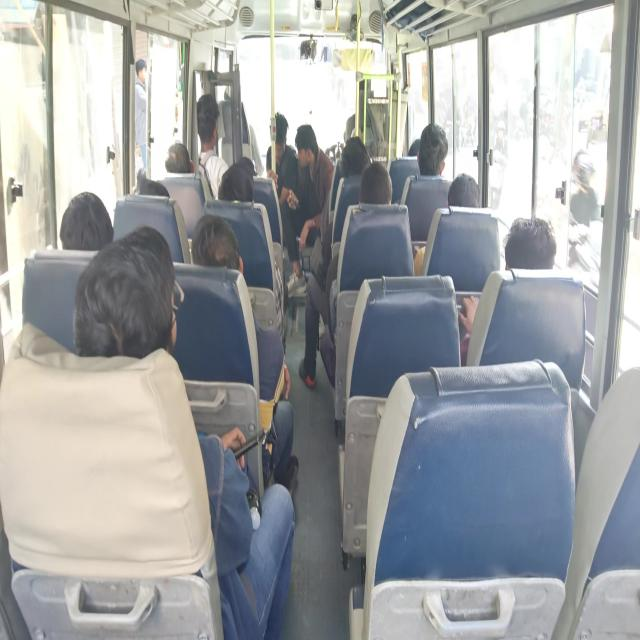person: (89, 238, 176, 386), (197, 211, 242, 290), (59, 194, 101, 266), (510, 214, 546, 268), (195, 99, 231, 151), (222, 170, 256, 218), (452, 176, 488, 221), (367, 170, 402, 212), (418, 132, 444, 180), (344, 146, 376, 183), (139, 167, 169, 203), (296, 127, 318, 166), (231, 155, 255, 190), (271, 114, 288, 156), (166, 146, 189, 170), (408, 140, 422, 160)
